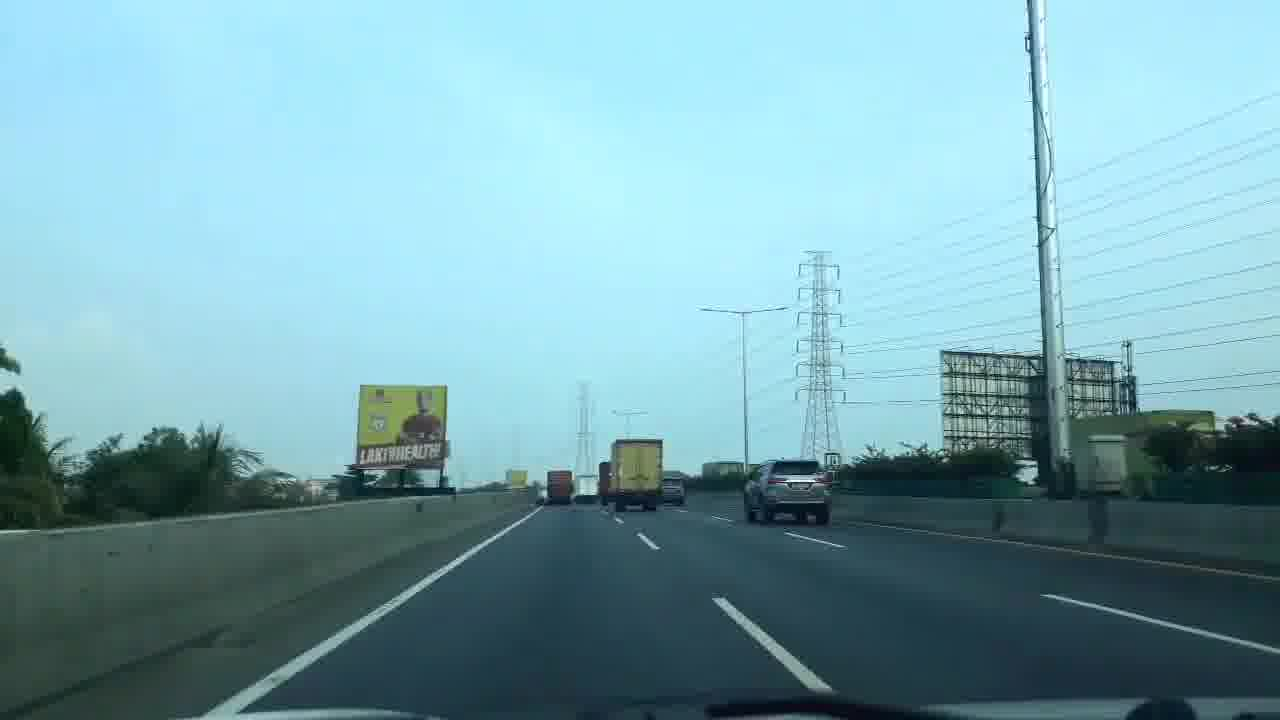plate_positive: (791, 483, 810, 489)
